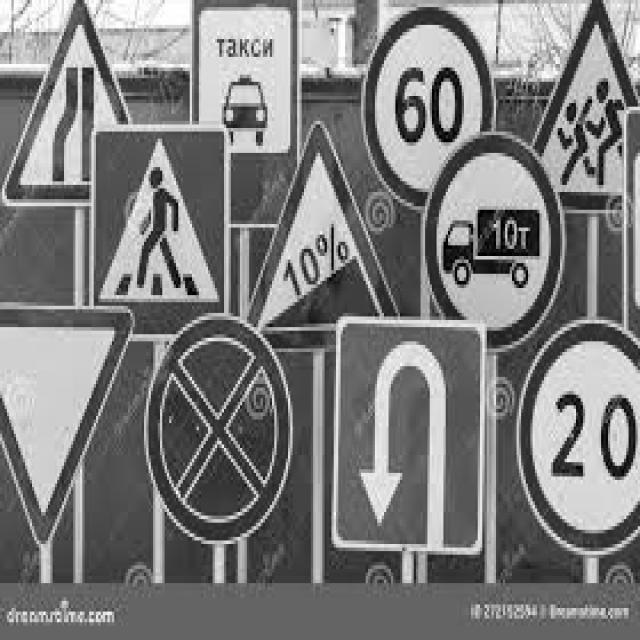danger: (0, 0, 134, 207)
direction_obligation: (331, 316, 491, 561)
forbidden: (142, 312, 300, 540), (424, 133, 556, 343)
indication: (90, 126, 232, 342), (190, 0, 304, 233)
let_go: (0, 300, 134, 551)
slope_danger: (249, 121, 407, 350)
speed_20: (516, 319, 640, 558)
speed_60: (360, 3, 498, 216)
